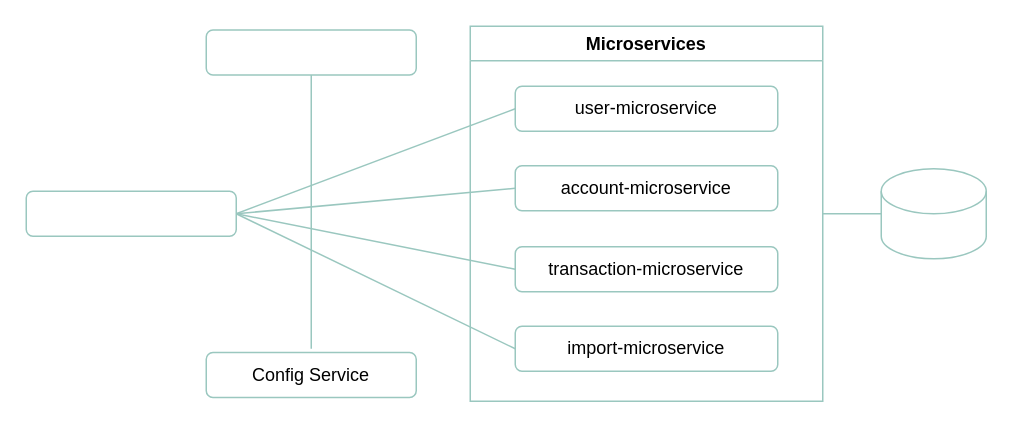
This 1013x428 diagram has some shape labels left out. Here are the shapes that lost their labels. From the top down, the centre of each, then its label:
point 310,51: Service Registry
point 130,213: API gateway
point 933,213: MongoDB
